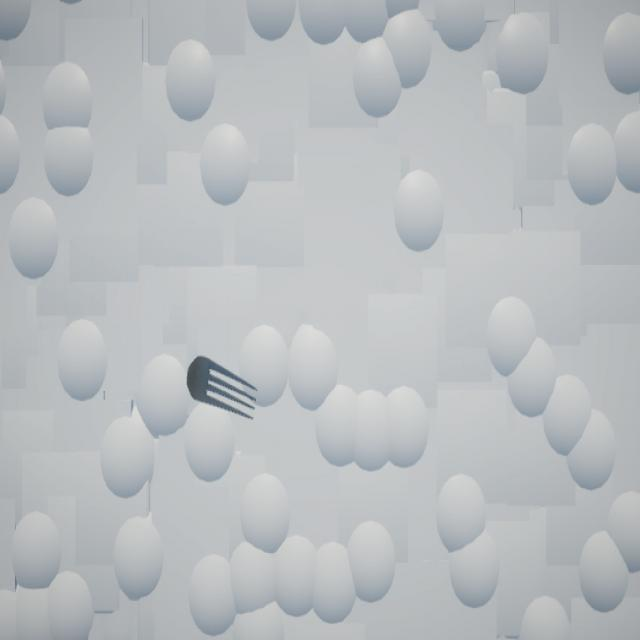top_folk: (187, 357, 258, 421)
